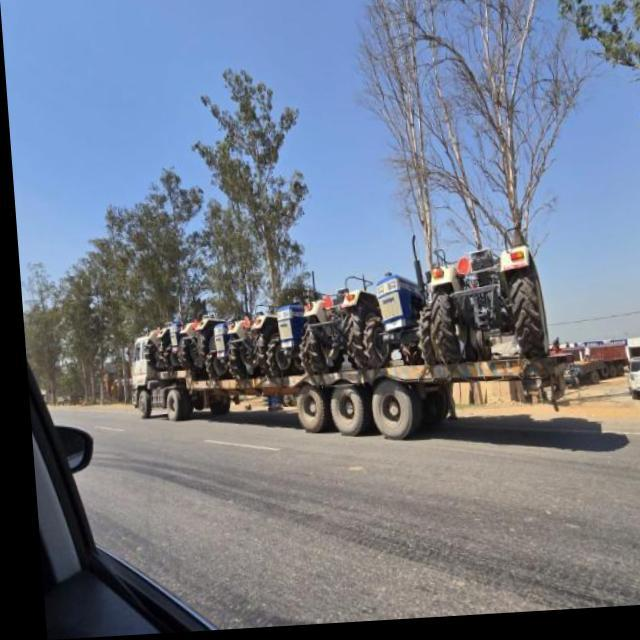uncovered: (115, 256, 581, 430)
